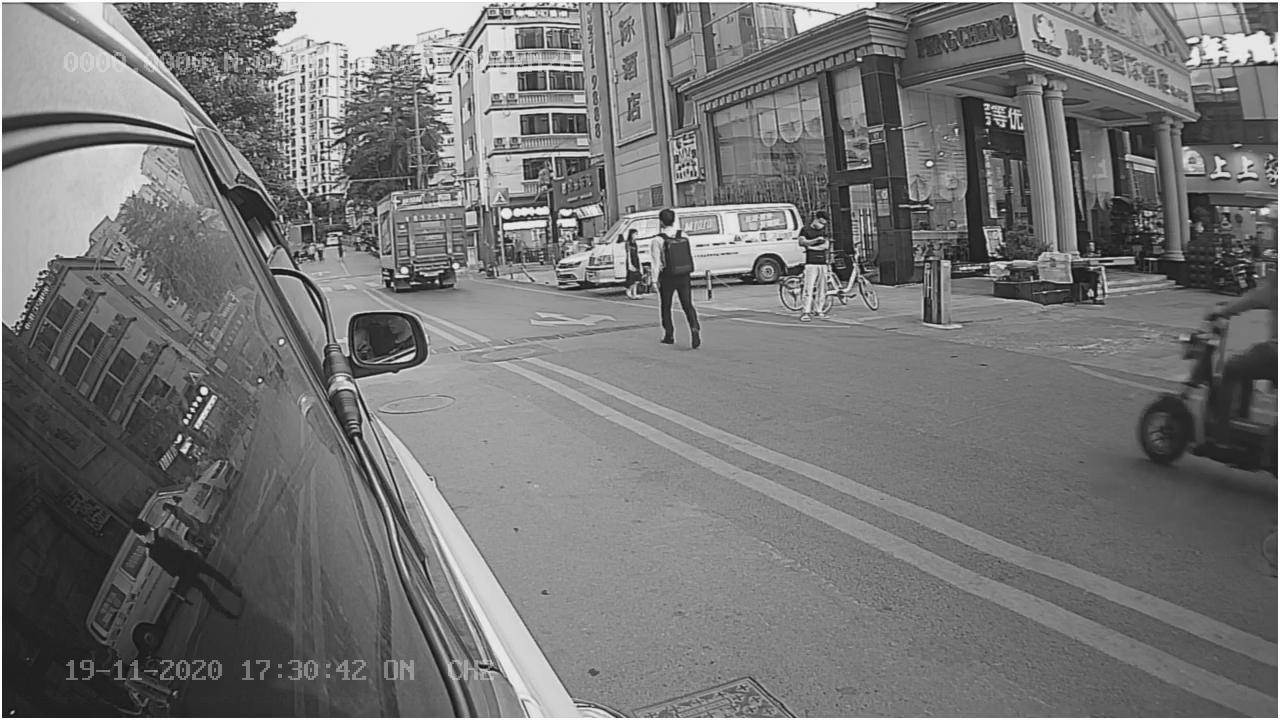person: (649, 206, 707, 346)
